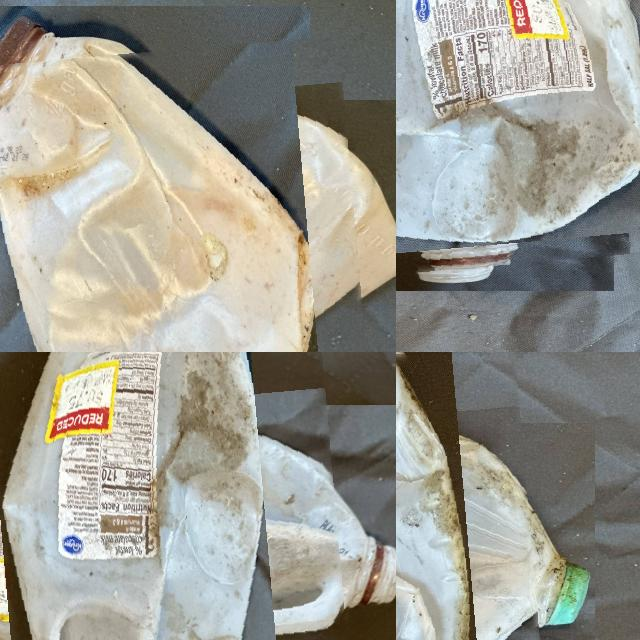milk-jug: (0, 43, 366, 352), (0, 352, 346, 640), (396, 0, 640, 276), (396, 352, 541, 640)
